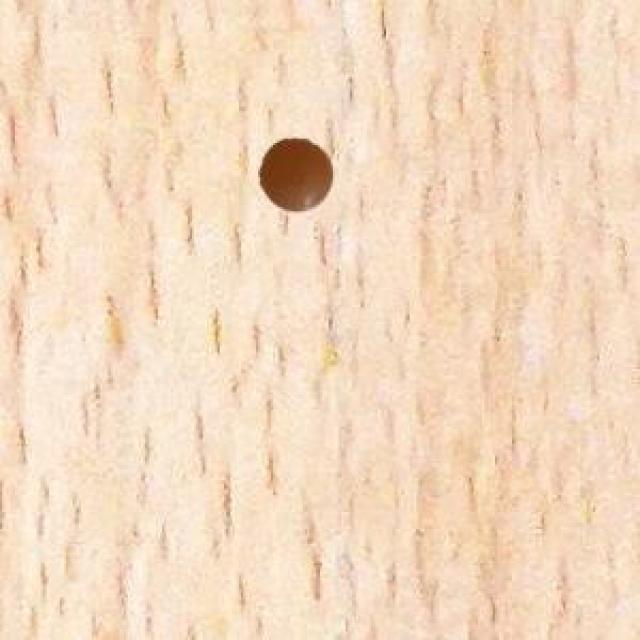Bactidol: (247, 112, 344, 222)
